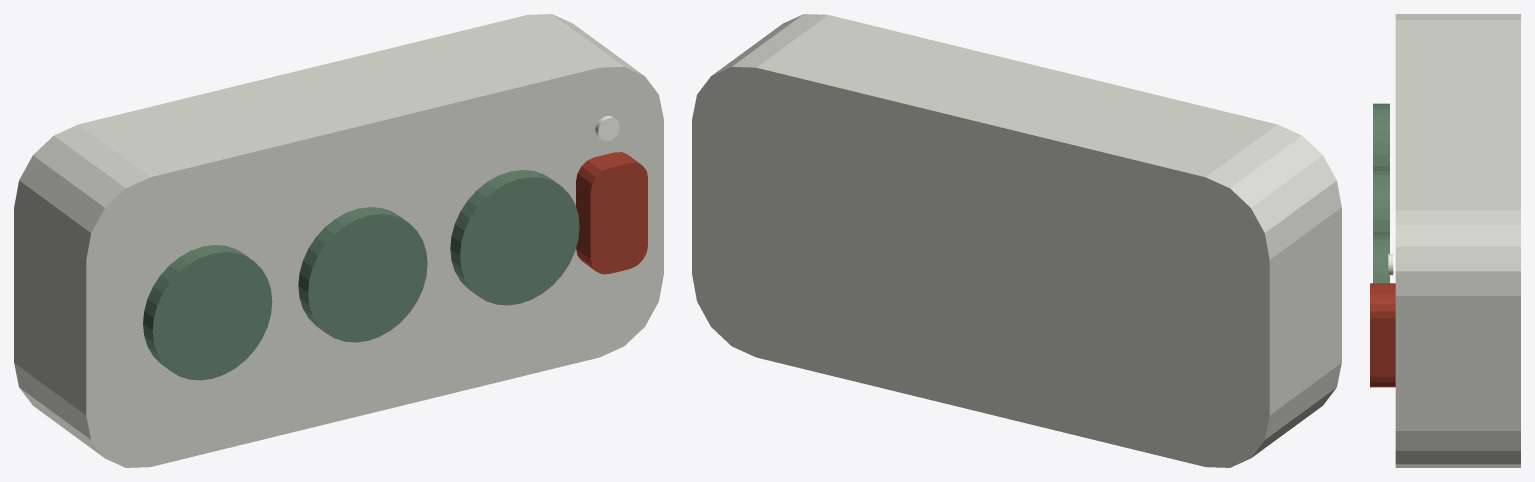
The model's file is powerstrip.glb.
3 views of the same model, side by side, from view 1: azimuth 30°, elevation 25°; view 2: azimuth 150°, elevation 25°; view 3: azimuth 270°, elevation 25° (orthographic). The views are drawn at different scales.
Visible parts, largest first — view 1: case, socket-0.52, socket-0.06, socket0.39, switch; view 2: case; view 3: case, switch, socket-0.52, socket-0.06, socket0.39.
Boxes of the visible parts, x1,y1,x2,y2 form: case: (14, 14, 663, 467); socket-0.52: (143, 245, 272, 380); socket-0.06: (298, 207, 427, 342); socket0.39: (450, 170, 579, 305); switch: (576, 152, 647, 274); case: (692, 14, 1341, 467); case: (1395, 14, 1520, 467); switch: (1370, 283, 1395, 387); socket-0.52: (1373, 103, 1389, 169); socket-0.06: (1373, 169, 1389, 233); socket0.39: (1373, 234, 1389, 283).
Size of the model in its own units: 1.71 by 0.82 by 0.4455.
